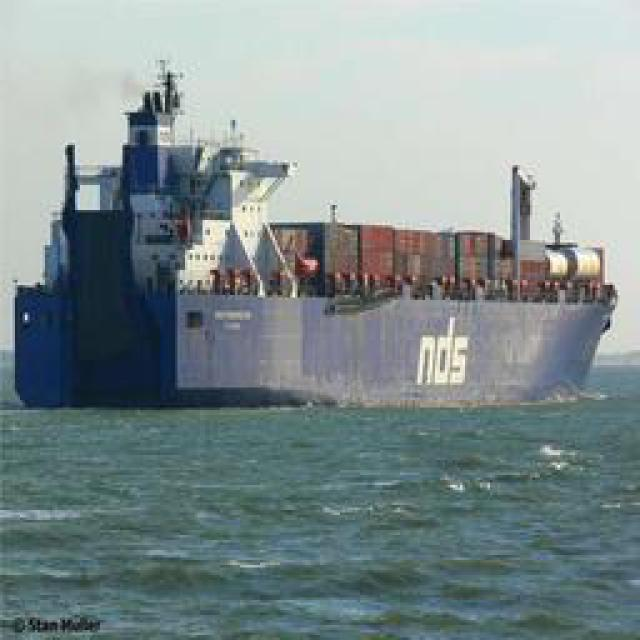Ship: (101, 71, 619, 414)
